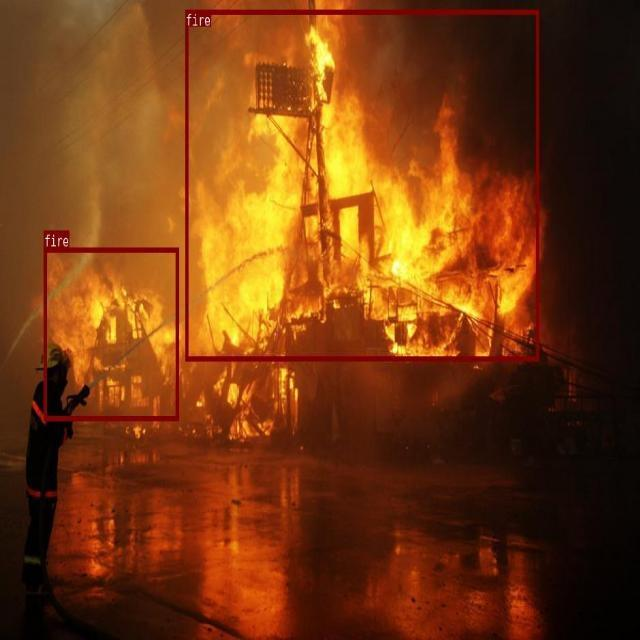fire: (185, 9, 539, 360), (43, 247, 178, 420)
